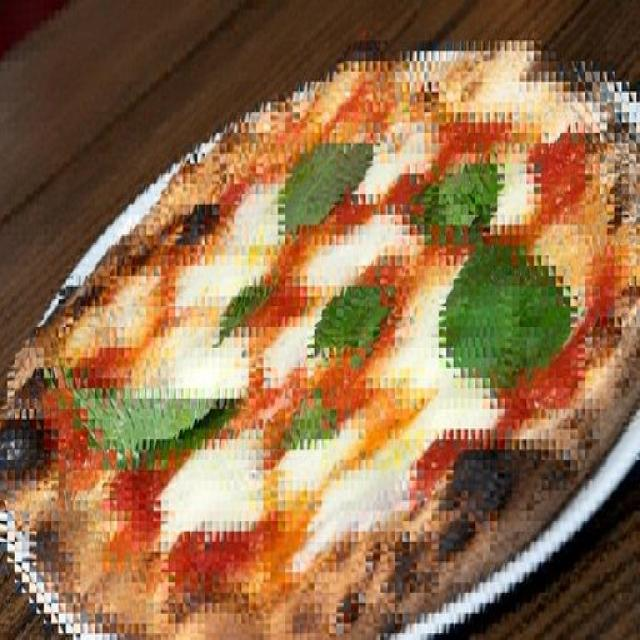Basil: (444, 231, 564, 390), (76, 381, 237, 456), (273, 131, 373, 234), (528, 220, 593, 343), (423, 158, 500, 244), (316, 273, 389, 363), (276, 390, 341, 452), (221, 277, 275, 341)
Cheese: (304, 416, 438, 571), (378, 274, 498, 445), (169, 179, 283, 313), (158, 421, 268, 558), (296, 216, 423, 292), (276, 404, 366, 508), (137, 321, 256, 399), (464, 145, 539, 229), (355, 128, 438, 194), (76, 278, 155, 346)
Pizza: (0, 42, 640, 638)
